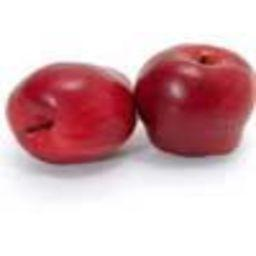apple: (2, 61, 133, 169), (136, 43, 256, 159)
